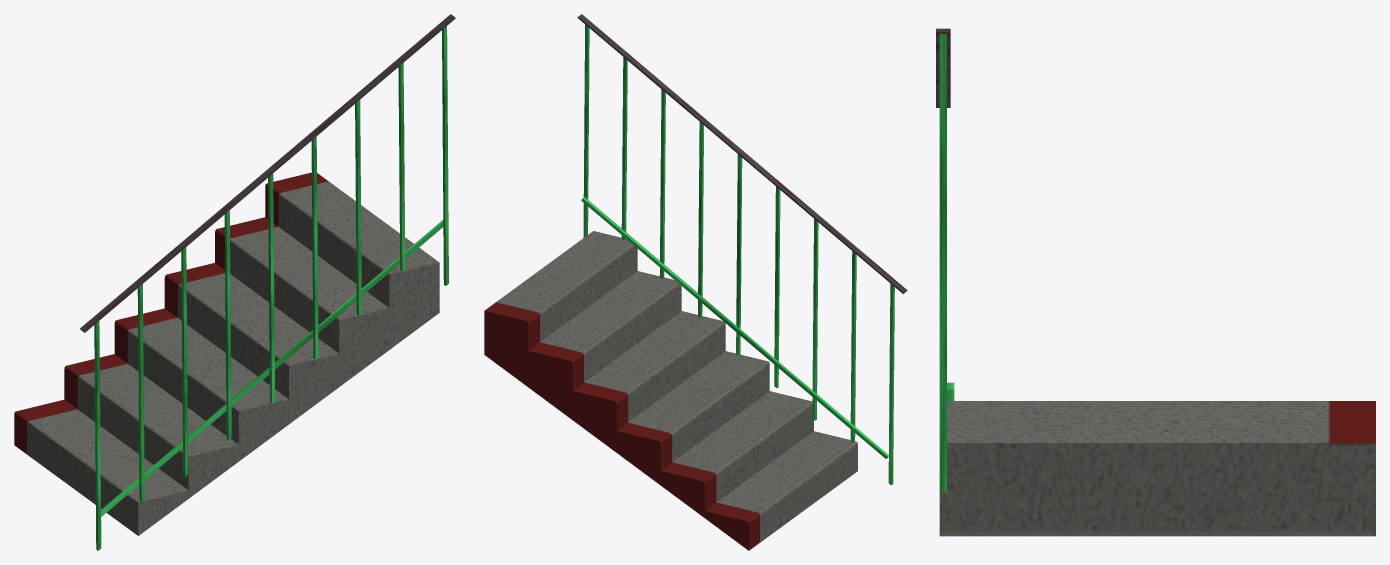
The model's file is Entrance_Stairs.fbx.
3 renders of one model, left to right at view 1: azimuth 30°, elevation 25°; view 2: azimuth 150°, elevation 25°; view 3: azimuth 270°, elevation 25°, orthographic. The views are drawn at different scales.
Parts seen in each view (by area): view 1: Stairs.016, Stairs_Parapet.013, Stairs_Parapet_top.013; view 2: Stairs.016, Stairs_Parapet.013, Stairs_Parapet_top.013; view 3: Stairs.016, Stairs_Parapet.013, Stairs_Parapet_top.013.
Part boxes in pixels (x1,y1,x2,y2): Stairs.016: [14, 172, 439, 535]; Stairs_Parapet.013: [94, 26, 448, 550]; Stairs_Parapet_top.013: [80, 14, 455, 332]; Stairs.016: [484, 231, 857, 550]; Stairs_Parapet.013: [581, 24, 894, 485]; Stairs_Parapet_top.013: [577, 14, 907, 293]; Stairs.016: [939, 401, 1375, 536]; Stairs_Parapet.013: [939, 34, 954, 492]; Stairs_Parapet_top.013: [936, 28, 950, 107].
Size of the model in its own units: 207 by 239 by 121.
4 materials, 4 textured.
